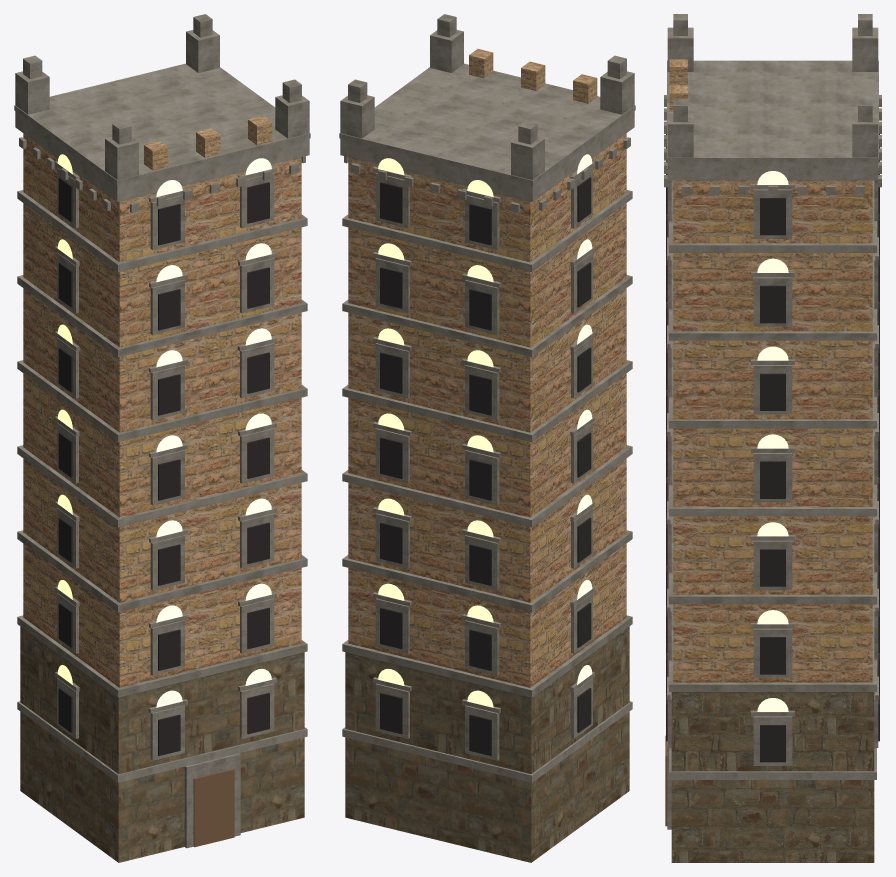
File: sanaa_house_b.glb
The picture shows the model from 3 angles, left to right: view 1: azimuth 30°, elevation 25°; view 2: azimuth 150°, elevation 25°; view 3: azimuth 270°, elevation 25°; orthographic projection. The views are drawn at different scales.
Parts seen in each view (by area): view 1: sanaa_house_b; view 2: sanaa_house_b; view 3: sanaa_house_b.
Part boxes in pixels (box(x1,y1,x2,y2)): sanaa_house_b: box(14, 14, 310, 862); sanaa_house_b: box(339, 14, 635, 862); sanaa_house_b: box(664, 14, 881, 862).
Size of the model in its own units: 2.56 by 9.04 by 2.36.
6 materials, 3 textured.
